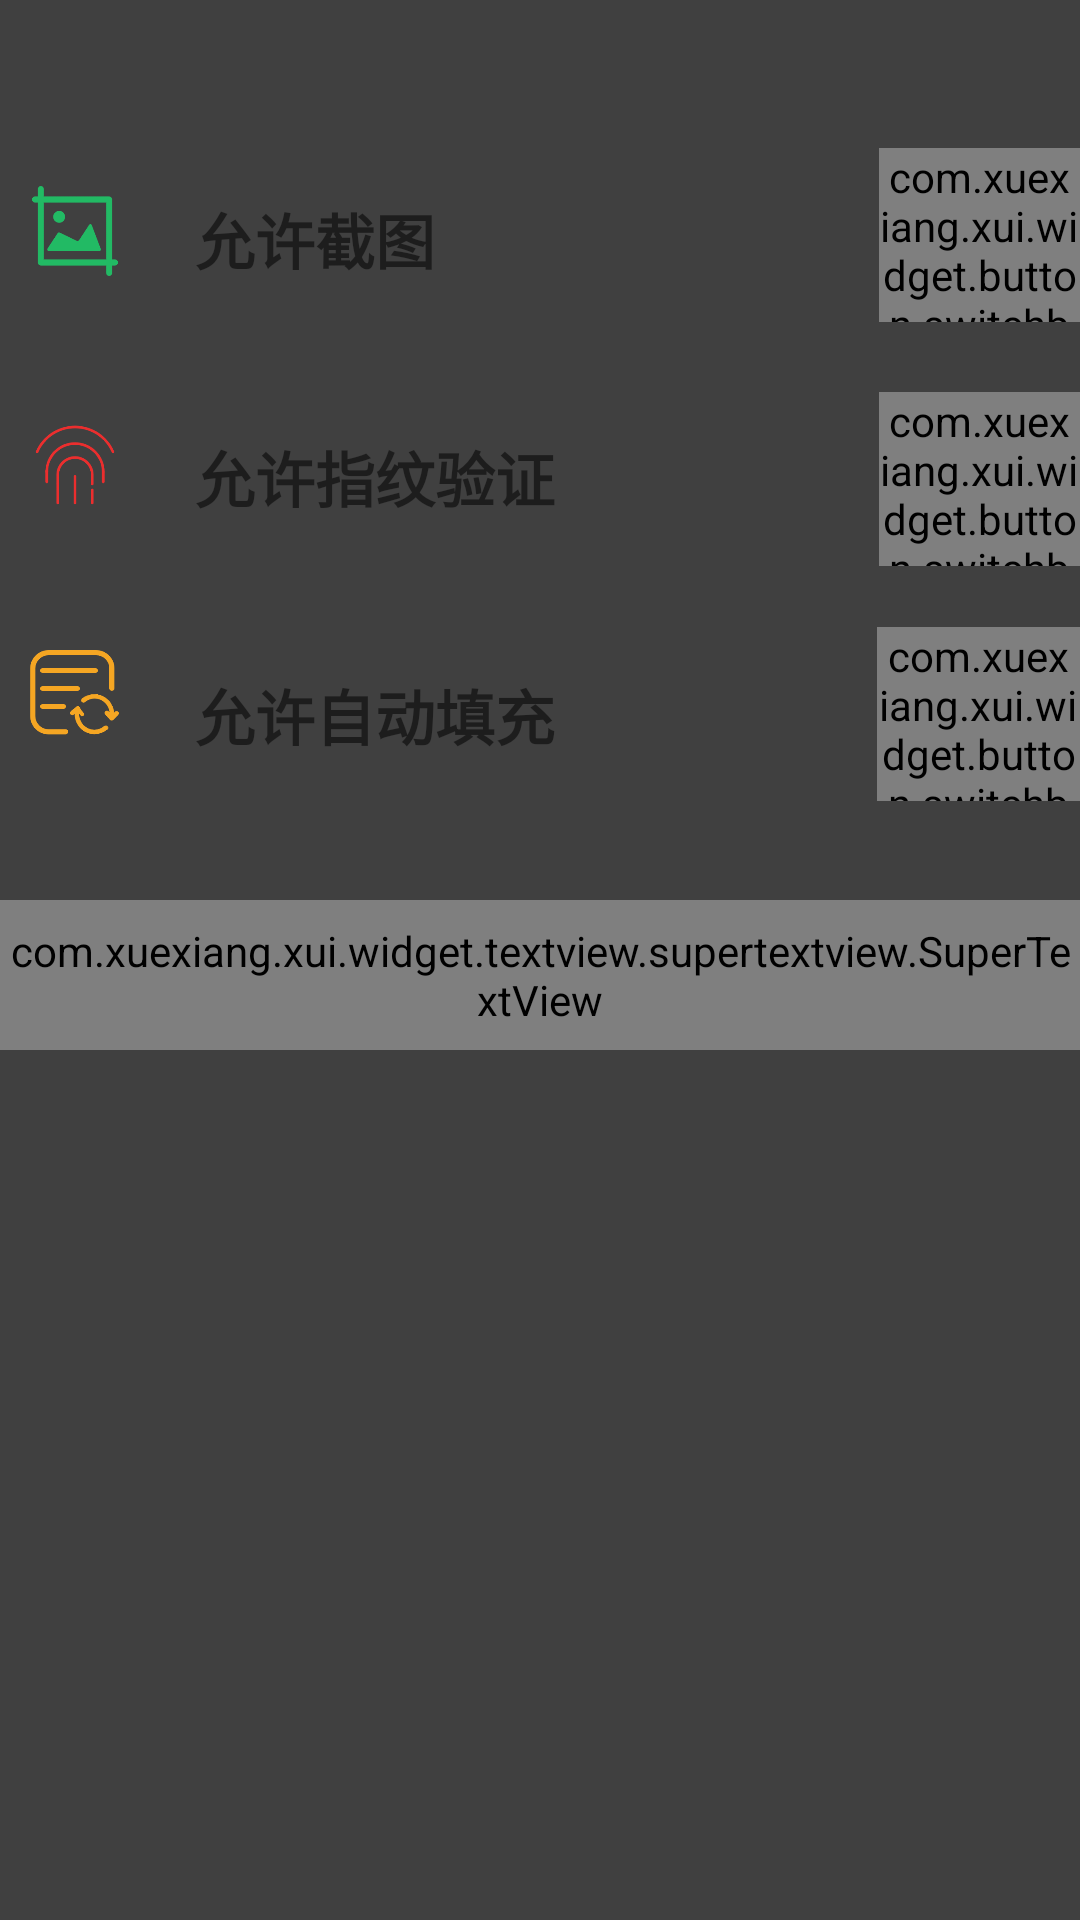

Icons on this 1080 x 1920 Android screen, each with its box as (x1, y1, x2, y2):
auto: (30, 650, 119, 735)
finger: (36, 425, 114, 504)
jietu: (32, 186, 118, 276)
